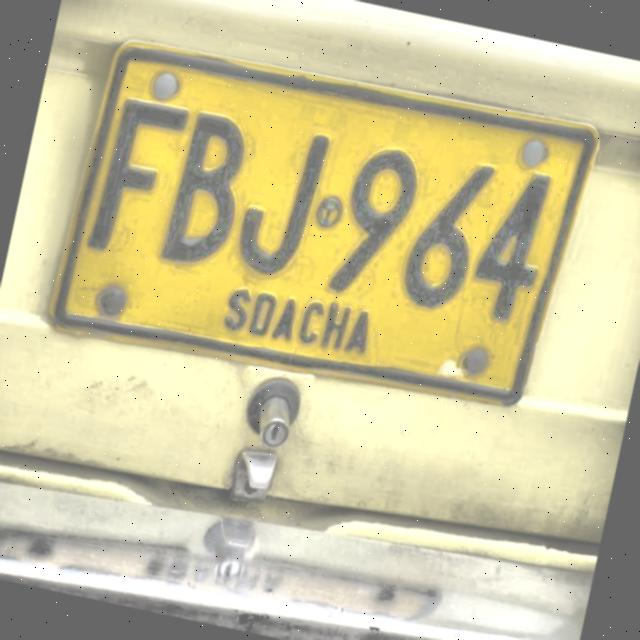plate: (47, 38, 599, 408)
